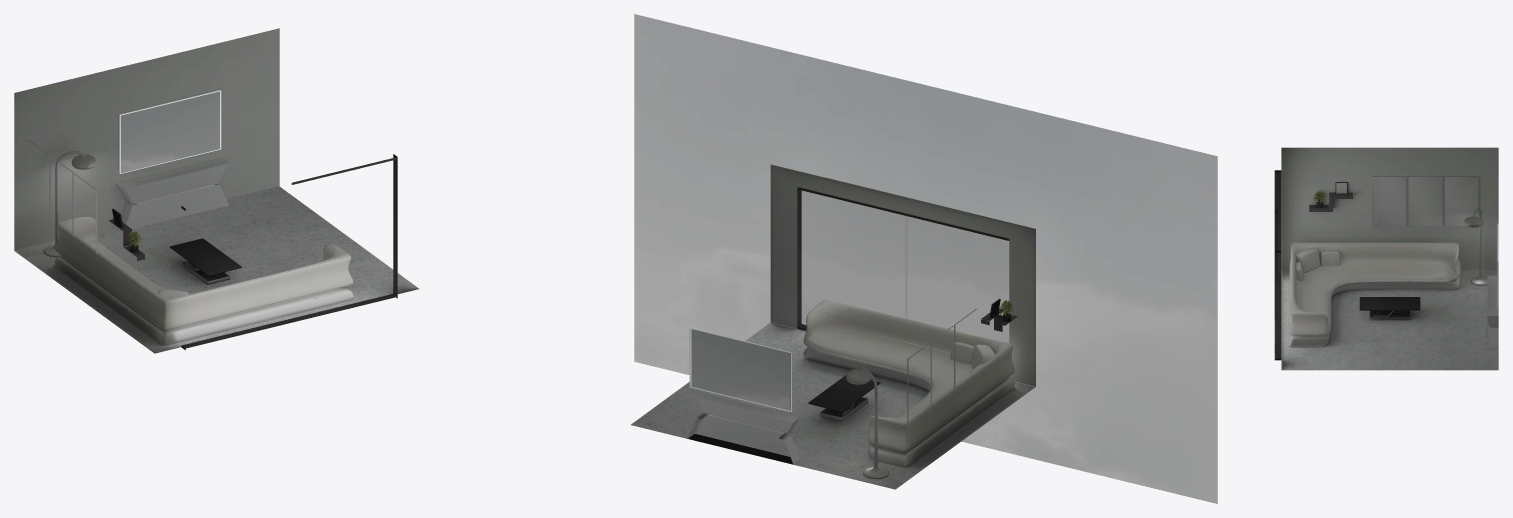
Rendered from white_modern_living_room.glb.
The picture shows the model from 3 angles, left to right: view 1: azimuth 30°, elevation 25°; view 2: azimuth 150°, elevation 25°; view 3: azimuth 270°, elevation 25°; orthographic projection. The views are drawn at different scales.
Parts seen in each view (by area): view 1: Structure_Structure_0, Sofa_Sofa_0, TV_TV_0, TVStand_TVStand_0, CoffeeTable_CoffeeTable_0, Lamp_Lamp_0; view 2: Structure_Structure_0, Windows_Windows_0, Sofa_Sofa_0, TV_TV_0, TVStand_TVStand_0, CoffeeTable_CoffeeTable_0, Lamp_Lamp_0, Pillows_Pillows_0; view 3: Structure_Structure_0, Sofa_Sofa_0, AbstractArt_AbstractArt_0, CoffeeTable_CoffeeTable_0, Pillows_Pillows_0, TVStand_TVStand_0, Lamp_Lamp_0.
Boxes of the visible parts, box(x1,y1,x2,y2) form: Structure_Structure_0: box(14, 28, 419, 353); Sofa_Sofa_0: box(54, 217, 353, 345); TV_TV_0: box(118, 90, 221, 174); TVStand_TVStand_0: box(117, 158, 229, 229); CoffeeTable_CoffeeTable_0: box(169, 238, 241, 284); Lamp_Lamp_0: box(44, 150, 96, 256); Structure_Structure_0: box(631, 14, 1217, 503); Windows_Windows_0: box(802, 191, 1008, 342); Sofa_Sofa_0: box(803, 299, 1014, 467); TV_TV_0: box(689, 328, 791, 411); TVStand_TVStand_0: box(687, 391, 800, 464); CoffeeTable_CoffeeTable_0: box(808, 375, 880, 420); Lamp_Lamp_0: box(846, 367, 888, 478); Pillows_Pillows_0: box(951, 341, 994, 373); Structure_Structure_0: box(1274, 147, 1498, 370); Sofa_Sofa_0: box(1289, 242, 1460, 347); AbstractArt_AbstractArt_0: box(1372, 176, 1478, 226); CoffeeTable_CoffeeTable_0: box(1359, 297, 1420, 320); Pillows_Pillows_0: box(1296, 248, 1340, 280); TVStand_TVStand_0: box(1487, 276, 1498, 348); Lamp_Lamp_0: box(1464, 208, 1487, 285).
Bounding box in the file's own units: 11.81 × 6.73 × 5.72.
Materials: 11 (10 with a texture image).
